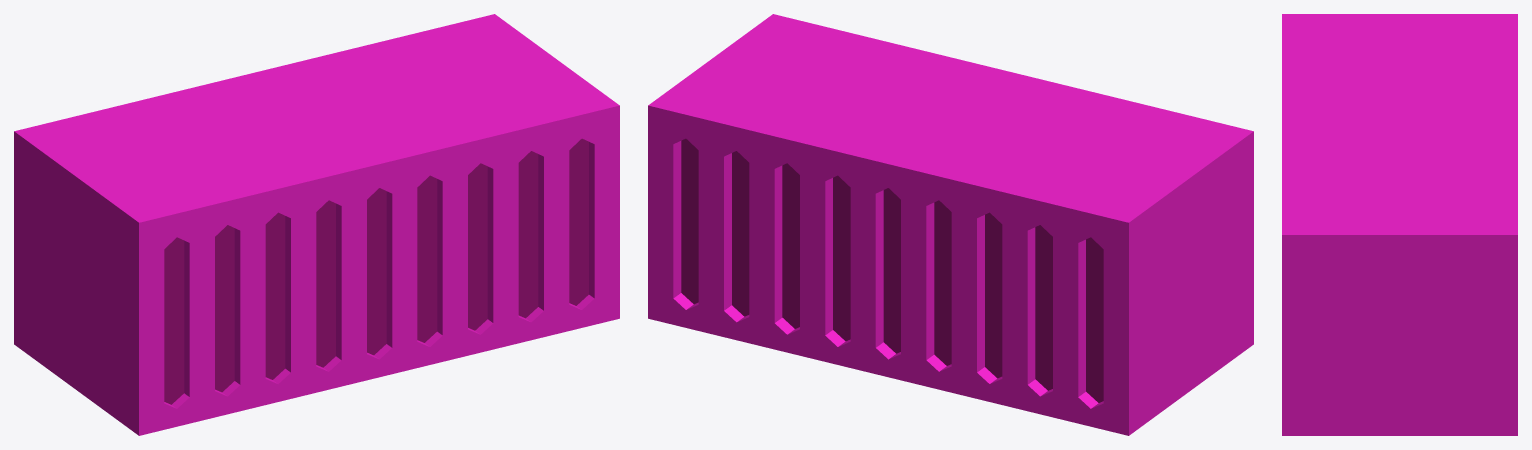
3 renders of one model, left to right at view 1: azimuth 30°, elevation 25°; view 2: azimuth 150°, elevation 25°; view 3: azimuth 270°, elevation 25°, orthographic. The views are drawn at different scales.
Visible parts, largest first — view 1: Box001; view 2: Box001; view 3: Box001.
Part boxes in pixels (x1,y1,x2,y2): Box001: [14, 14, 619, 435]; Box001: [648, 14, 1253, 435]; Box001: [1282, 14, 1517, 435].
Size of the model in its own units: 114 by 48.16 by 51.2.
